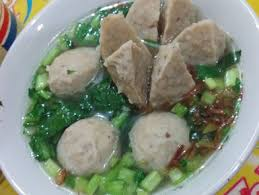bakso: (42, 10, 216, 176)
